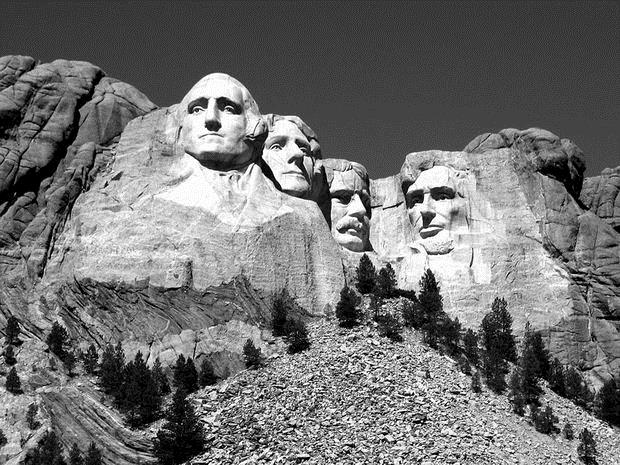Mount_Rushmore: (169, 62, 492, 261)
